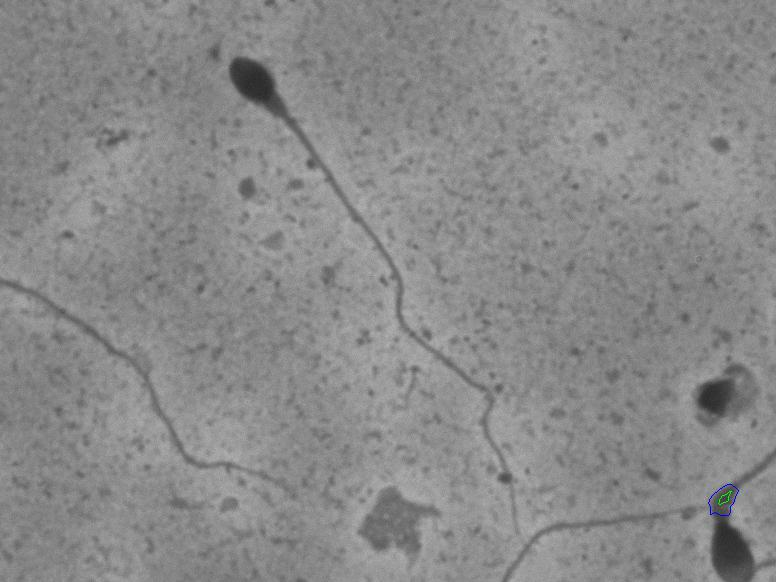Normal: (215, 39, 532, 553)
